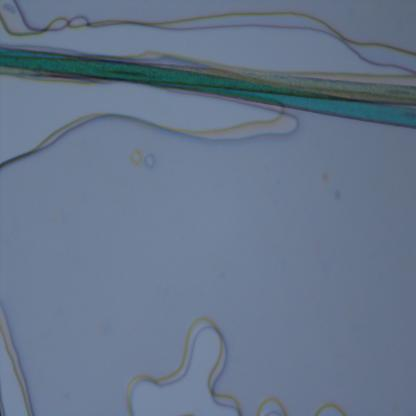Air bubble: (0, 0, 416, 79), (0, 96, 299, 168), (127, 315, 246, 415), (0, 305, 36, 415), (252, 390, 290, 415), (310, 401, 346, 415), (132, 147, 154, 168)
Microfibre: (0, 44, 416, 131)
